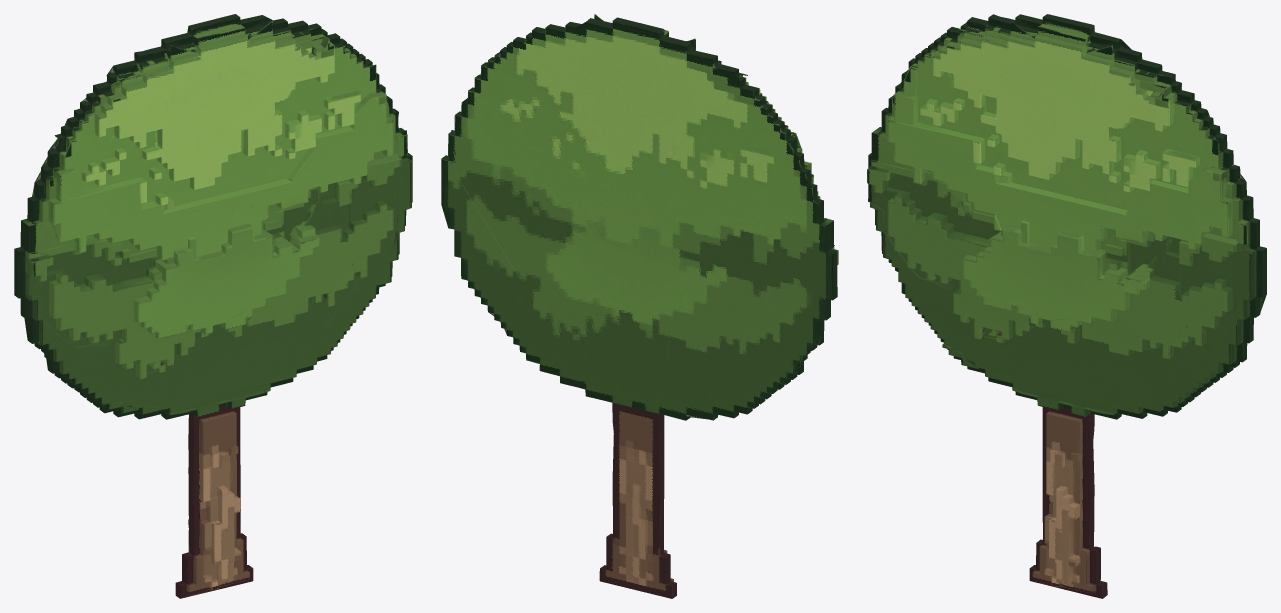
The model's file is tree_oak_pixel.glb.
3 views of the same model, side by side, from view 1: azimuth 30°, elevation 25°; view 2: azimuth 150°, elevation 25°; view 3: azimuth 330°, elevation 25° (orthographic).
Size of the model in its own units: 1.38 by 1.9 by 0.1047.
1 material, 1 textured.
